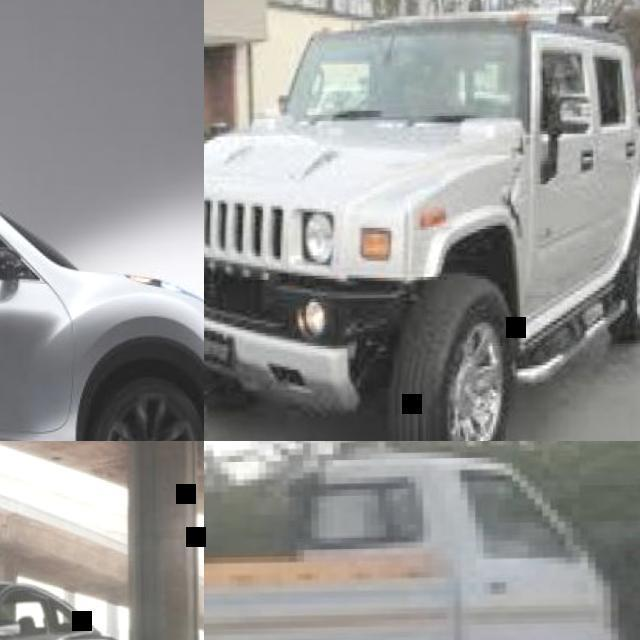car: (197, 15, 639, 422)
